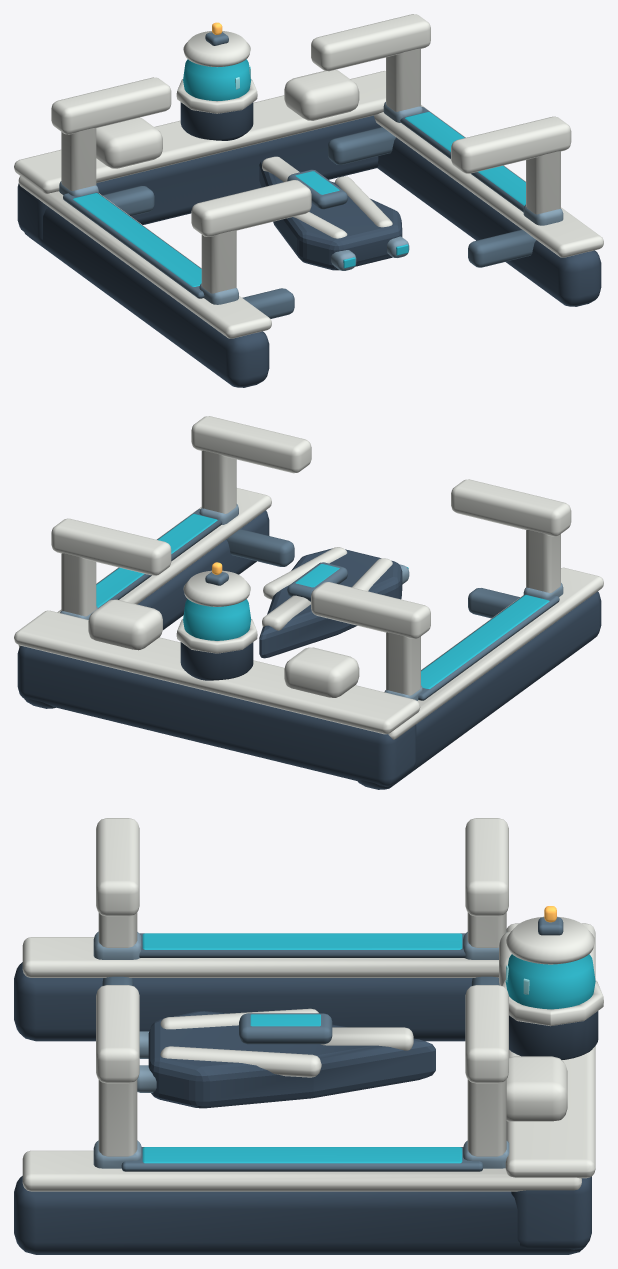
The model's file is orbital_shipyard_lv3.glb.
The picture shows the model from 3 angles, top to bottom: view 1: azimuth 30°, elevation 25°; view 2: azimuth 150°, elevation 25°; view 3: azimuth 270°, elevation 25°; orthographic projection. The views are drawn at different scales.
Visible parts, largest first — view 1: Structure; view 2: Structure; view 3: Structure.
Boxes of the visible parts, box(x1,y1,x2,y2) form: Structure: box(14, 14, 603, 387); Structure: box(14, 416, 603, 789); Structure: box(14, 818, 603, 1254).
Size of the model in its own units: 8.17 by 3.69 by 8.38.
